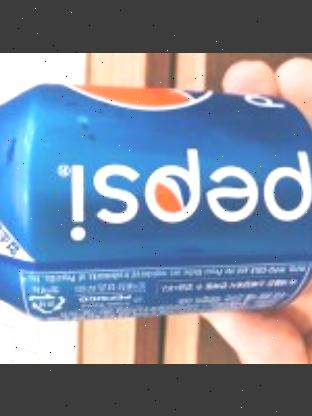Can: (0, 80, 312, 322)
